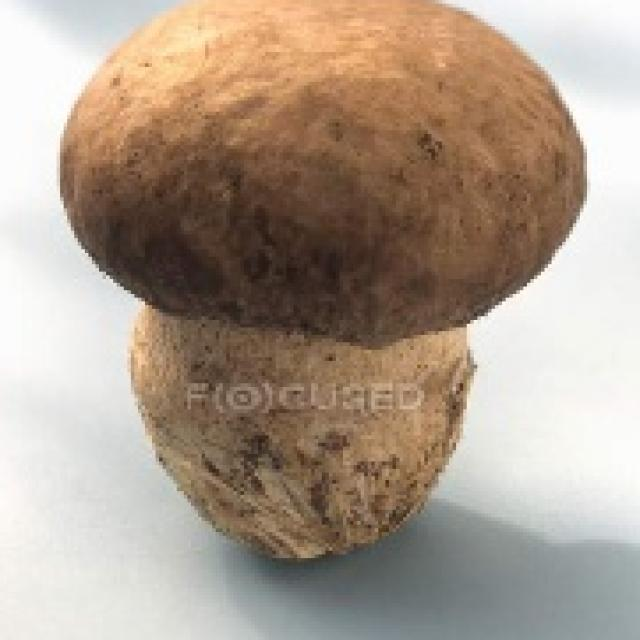mushroom: (53, 0, 598, 573)
